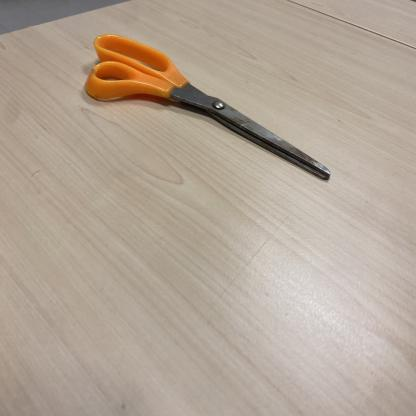scissors: (84, 33, 333, 182)
